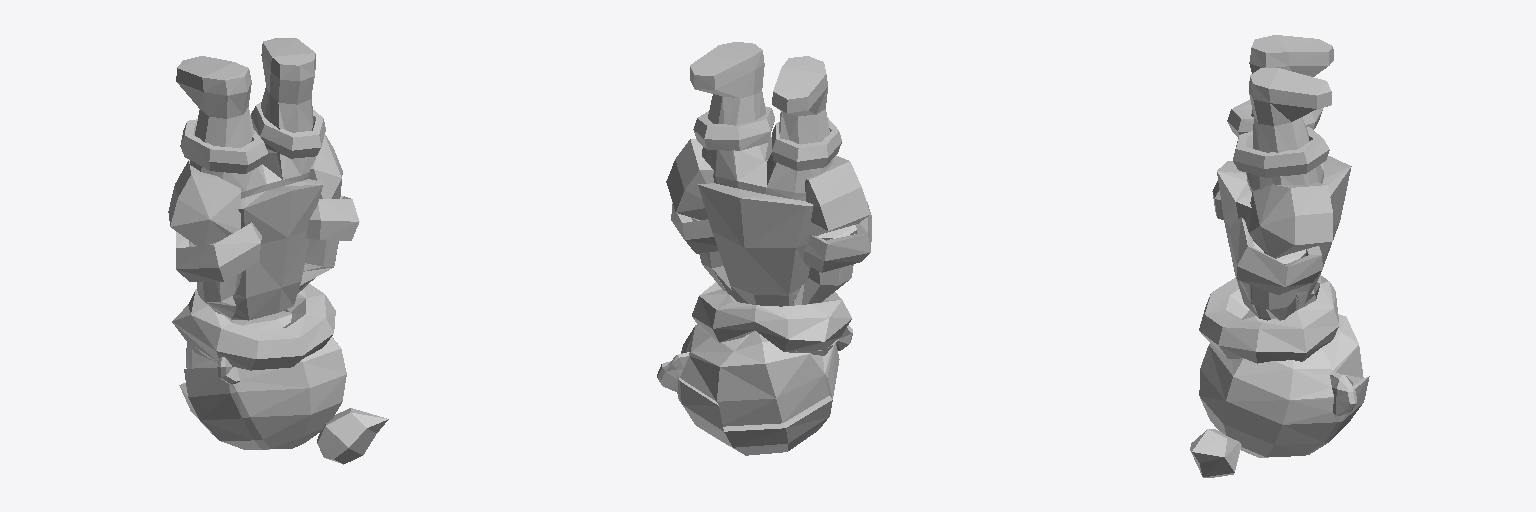
The model's file is eikastanding_000191.obj.
The picture shows the model from 3 angles: view 1: azimuth 30°, elevation 25°; view 2: azimuth 150°, elevation 25°; view 3: azimuth 270°, elevation 25°; orthographic projection.
Parts seen in each view (by area): view 1: Cylinder; view 2: Cylinder; view 3: Cylinder.
Boxes of the visible parts, box(x1,y1,x2,y2) form: Cylinder: box(168, 38, 388, 464); Cylinder: box(657, 42, 871, 455); Cylinder: box(1190, 35, 1369, 477).
Size of the model in its own units: 25.99 by 51.68 by 21.41.